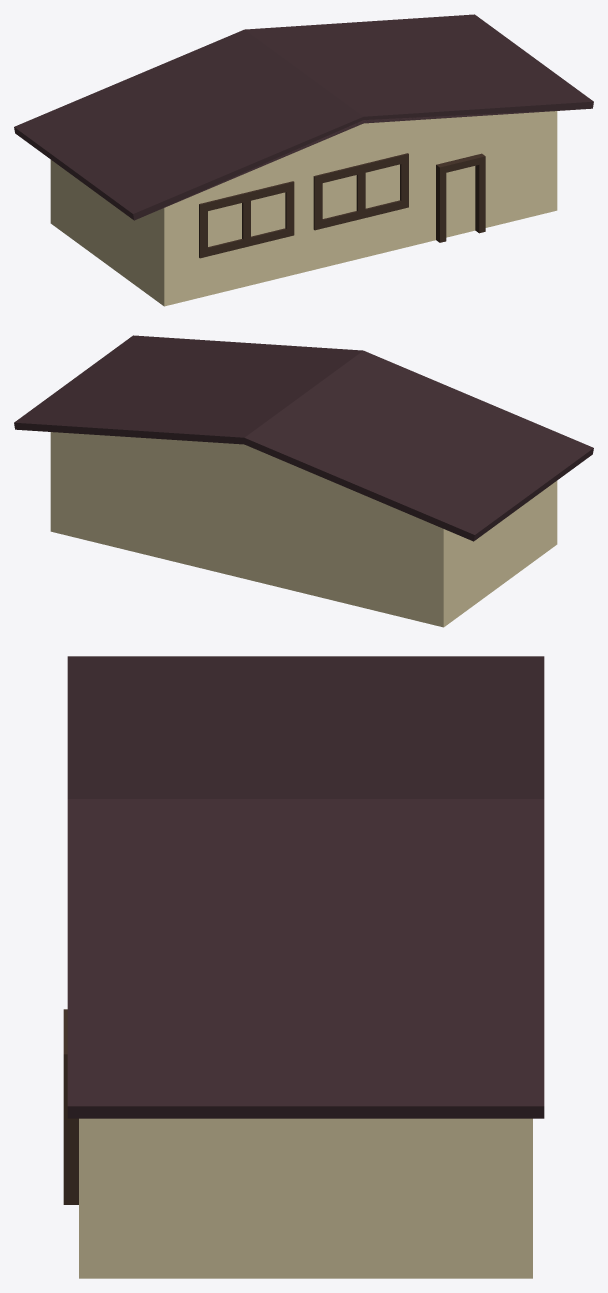
Rendered from mod_building_house1.fbx.
3 renders of one model, top to bottom at view 1: azimuth 30°, elevation 25°; view 2: azimuth 150°, elevation 25°; view 3: azimuth 270°, elevation 25°, orthographic. The views are drawn at different scales.
Parts seen in each view (by area): view 1: mesh_obj_env_b_house1; view 2: mesh_obj_env_b_house1; view 3: mesh_obj_env_b_house1.
Part boxes in pixels (left/top/right/bottom): mesh_obj_env_b_house1: left=14, top=14, right=593, bottom=306; mesh_obj_env_b_house1: left=14, top=335, right=593, bottom=627; mesh_obj_env_b_house1: left=63, top=656, right=544, bottom=1278.
Size of the model in its own units: 635 by 420 by 1407.
